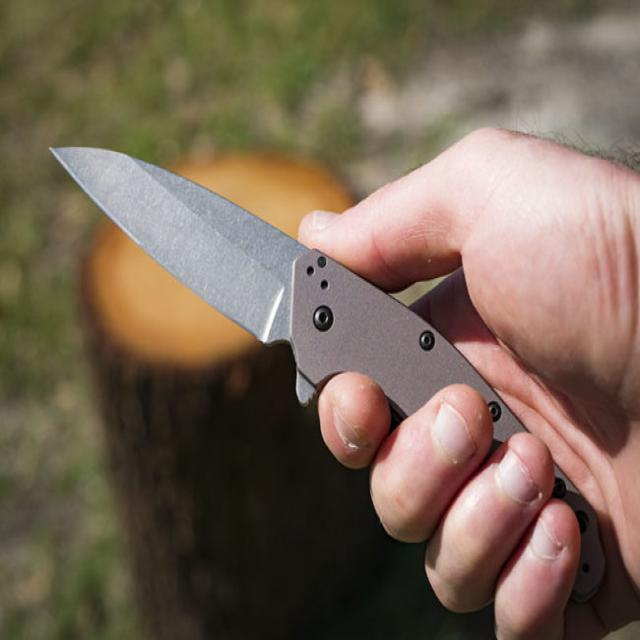knife: (49, 126, 432, 402)
